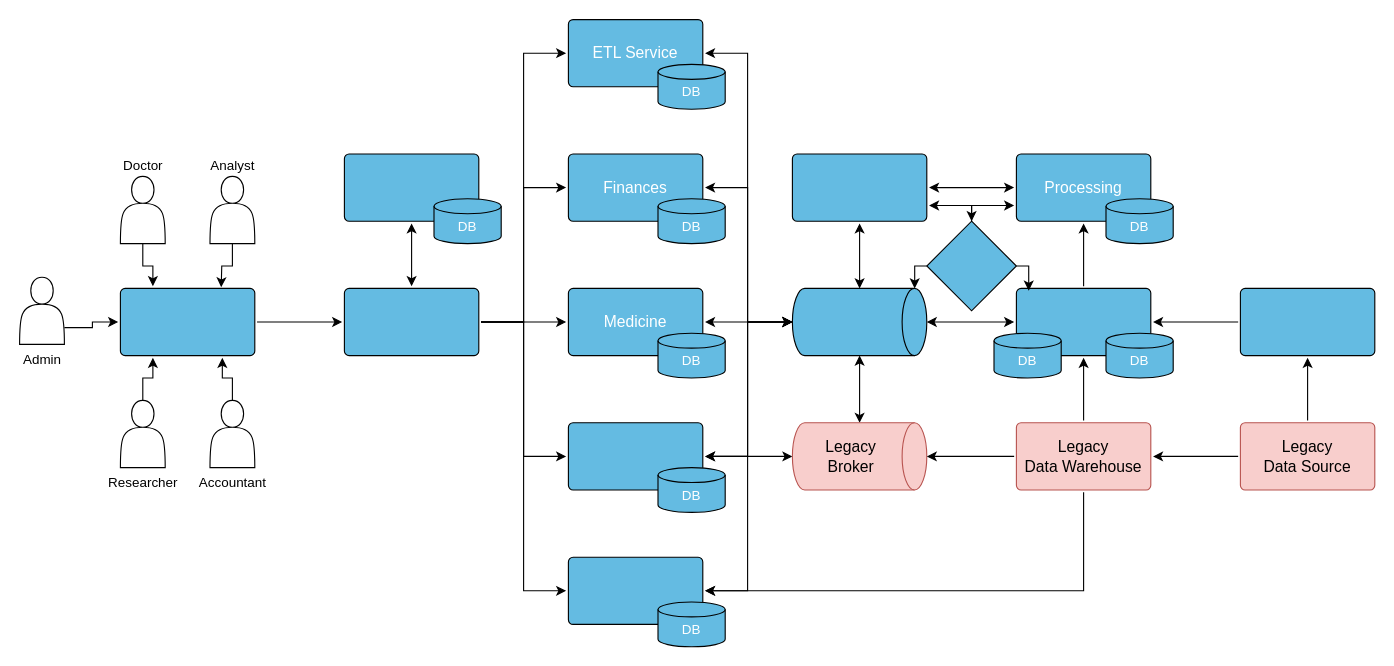
The diagram is 1394 pixels wide and 666 high, and some of its shapes have lost their labels. The shapes that lost their labels are listed below. From the top down, each one's box as (x1, y1, x2, y2) in pixels, then its label:
(343, 153, 479, 221): Auth Service
(791, 153, 927, 221): Data Catalog
(926, 220, 1016, 311): Cache
(119, 287, 255, 356): Portal
(343, 287, 479, 356): API Gateway
(791, 287, 927, 356): Message Broker
(1015, 287, 1151, 356): Data LakeHouse
(1239, 287, 1375, 356): Data Source
(567, 422, 703, 490): AI Research
(567, 556, 703, 624): BI Analysis
